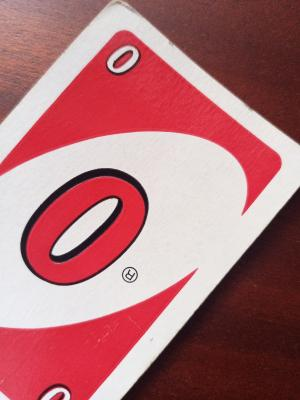num_0: (102, 32, 142, 79), (34, 379, 77, 400)
